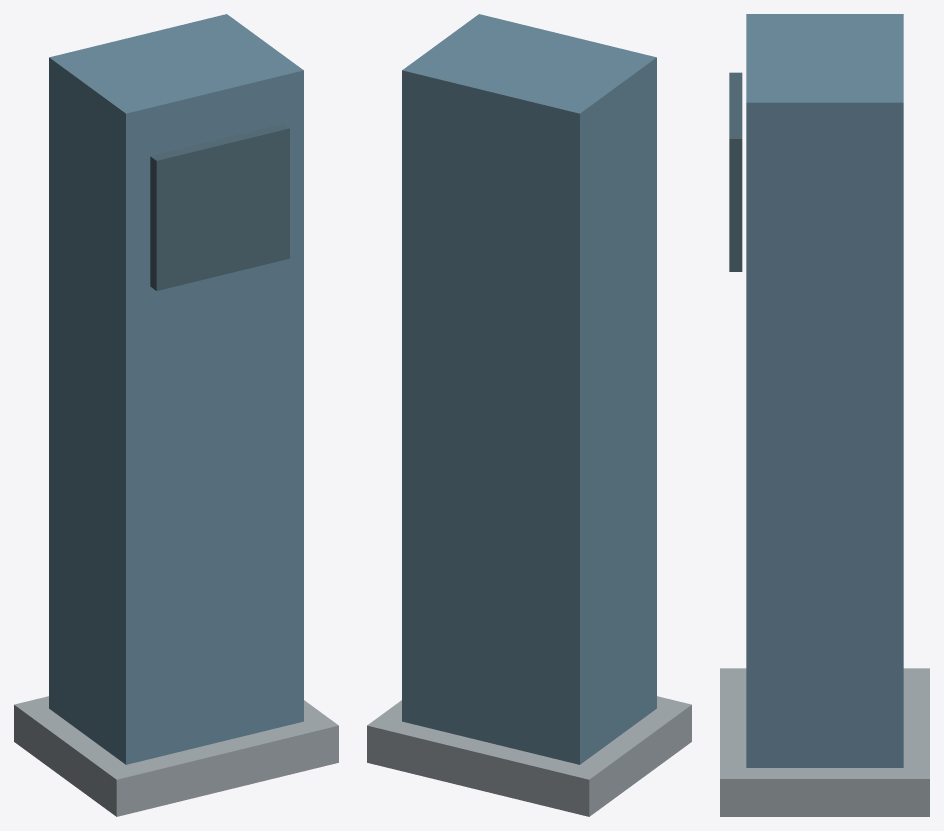
Rendered from long-haul-trucking-and-truck-stop-parking-pay-kiosk-63e18ce9__14004.glb.
3 views of the same model, side by side, from view 1: azimuth 30°, elevation 25°; view 2: azimuth 150°, elevation 25°; view 3: azimuth 270°, elevation 25° (orthographic). The views are drawn at different scales.
Visible parts, largest first — view 1: parking-pay-kiosk; view 2: parking-pay-kiosk; view 3: parking-pay-kiosk.
Part boxes in pixels (<box>): parking-pay-kiosk: <box>14,14,338,816</box>; parking-pay-kiosk: <box>367,14,691,816</box>; parking-pay-kiosk: <box>720,14,929,816</box>.
Bounding box in the file's own units: 0.5 × 1.48 × 0.4.
